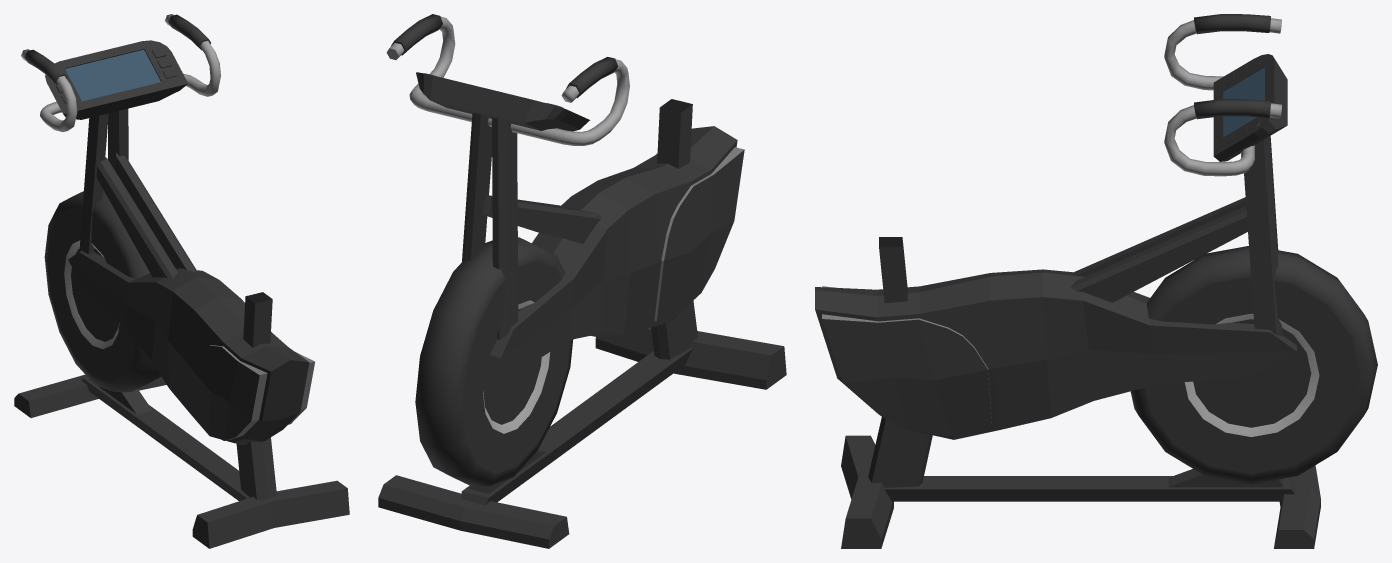
File: exercise-bike.glb
The picture shows the model from 3 angles, left to right: view 1: azimuth 30°, elevation 25°; view 2: azimuth 150°, elevation 25°; view 3: azimuth 270°, elevation 25°; orthographic projection. The views are drawn at different scales.
Visible parts, largest first — view 1: Exercise_Bike; view 2: Exercise_Bike; view 3: Exercise_Bike.
Part boxes in pixels (x1,y1,x2,y2): Exercise_Bike: (14, 14, 349, 548); Exercise_Bike: (378, 14, 786, 548); Exercise_Bike: (815, 14, 1377, 548).
Size of the model in its own units: 61.27 by 139 by 158.
Materials: 1 (1 with a texture image).
